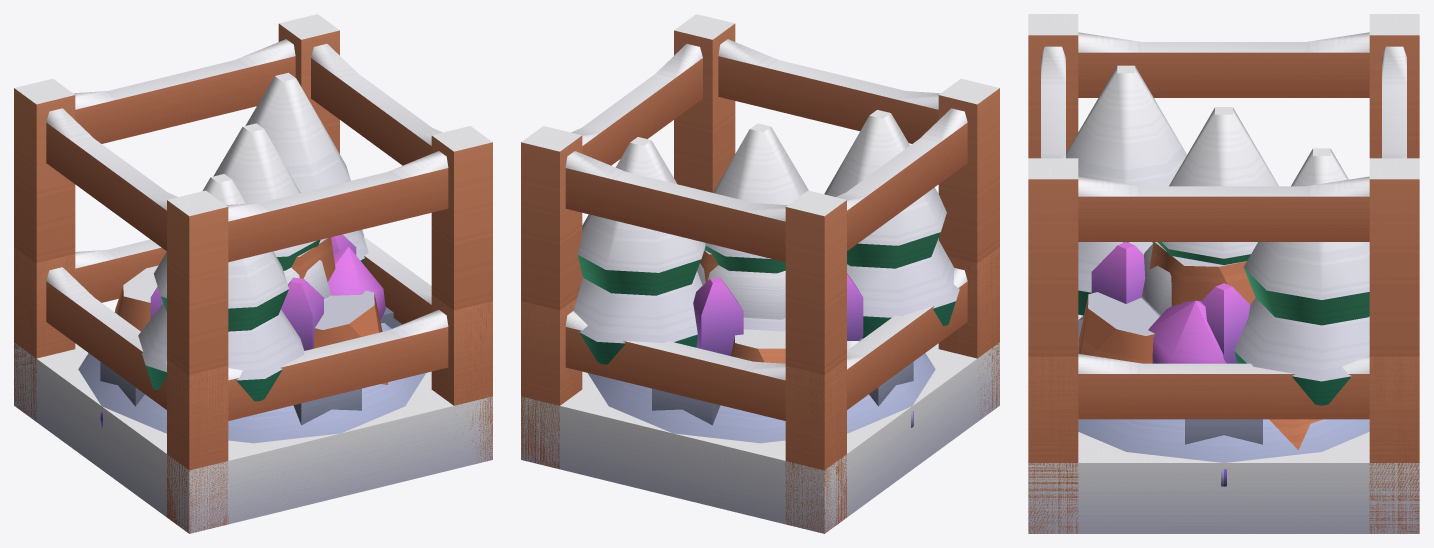
File: world-snow.glb
The picture shows the model from 3 angles, left to right: view 1: azimuth 30°, elevation 25°; view 2: azimuth 150°, elevation 25°; view 3: azimuth 270°, elevation 25°; orthographic projection. The views are drawn at different scales.
Parts seen in each view (by area): view 1: snow-wood-structure-high, snow-wood-structure, snow-tile-rock, snow-tile-tree-double, enemy-ufo-a, snow-tile-tree, crystal-small, snow-detail-crystal-large; view 2: snow-wood-structure-high, snow-tile-rock, snow-wood-structure, snow-tile-tree-double, enemy-ufo-a, snow-tile-tree, crystal-small (×2); view 3: snow-wood-structure-high, snow-tile-rock, snow-wood-structure, snow-tile-tree-double, enemy-ufo-a, snow-tile-tree, crystal-small (×2), snow-detail-crystal-large.
Part boxes in pixels (x1,y1,x2,y2): snow-wood-structure-high: (14, 14, 492, 533); snow-wood-structure: (14, 236, 492, 533); snow-tile-rock: (14, 237, 492, 533); snow-tile-tree-double: (138, 72, 368, 401); enemy-ufo-a: (78, 260, 425, 443); snow-tile-tree: (213, 123, 331, 300); crystal-small: (281, 277, 323, 350); snow-detail-crystal-large: (327, 246, 385, 320); snow-wood-structure-high: (521, 14, 999, 533); snow-tile-rock: (521, 250, 999, 533); snow-wood-structure: (521, 247, 999, 533); snow-tile-tree-double: (573, 110, 959, 364); enemy-ufo-a: (588, 263, 935, 443); snow-tile-tree: (704, 123, 808, 331); crystal-small (×2): (693, 273, 863, 355); snow-wood-structure-high: (1028, 14, 1419, 532); snow-tile-rock: (1028, 242, 1419, 533); snow-wood-structure: (1028, 354, 1419, 533); snow-tile-tree-double: (1066, 65, 1369, 405); enemy-ufo-a: (1078, 244, 1369, 462); snow-tile-tree: (1141, 107, 1278, 316); crystal-small (×2): (1091, 242, 1250, 363); snow-detail-crystal-large: (1148, 300, 1226, 363).
Size of the model in its own units: 1 by 1 by 1.
1 material, 1 textured.
